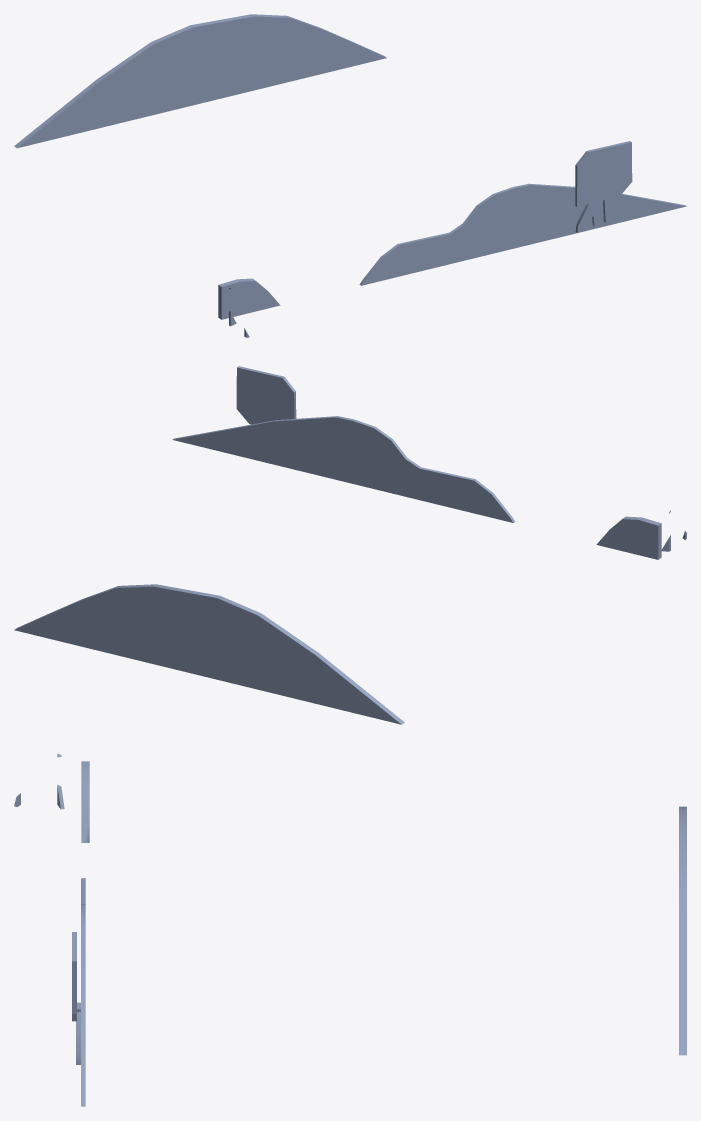
File: frame_0084.glb
The picture shows the model from 3 angles, top to bottom: view 1: azimuth 30°, elevation 25°; view 2: azimuth 150°, elevation 25°; view 3: azimuth 270°, elevation 25°; orthographic projection. The views are drawn at different scales.
Parts seen in each view (by area): view 1: export_trees_001.002; view 2: export_trees_001.002; view 3: export_trees_001.002.
Part boxes in pixels (bbox=[...]): export_trees_001.002: bbox=[14, 14, 686, 337]; export_trees_001.002: bbox=[14, 366, 686, 724]; export_trees_001.002: bbox=[14, 753, 686, 1106].
Size of the model in its own units: 0.3717 by 0.0622 by 0.35.
